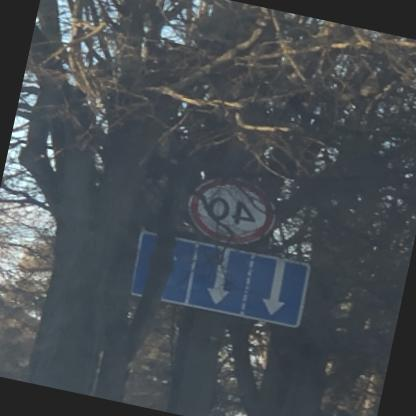speedlimit: (187, 170, 281, 250)
